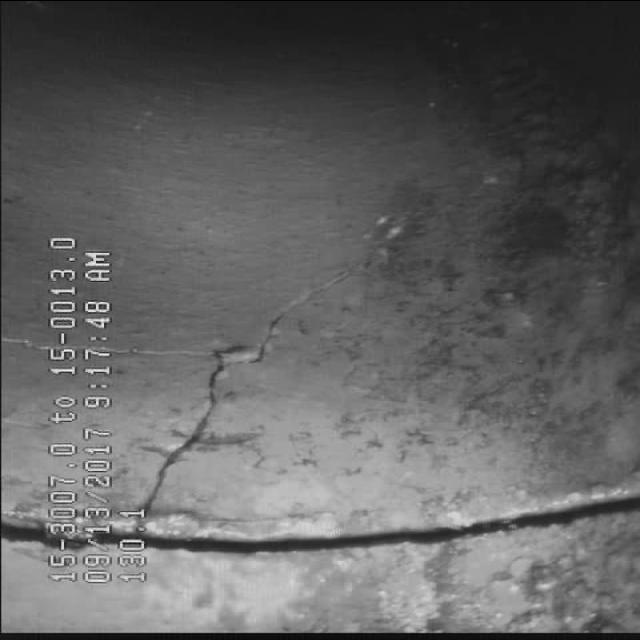Crack: (137, 227, 368, 461)
